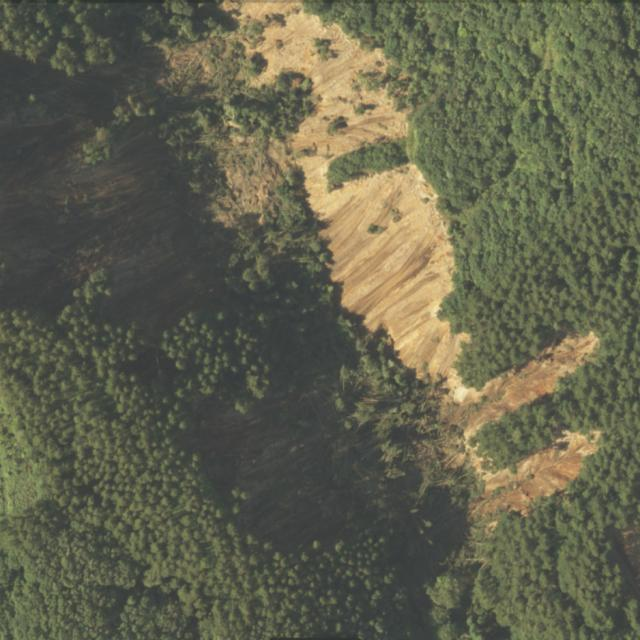landslide: (238, 1, 466, 401), (465, 332, 600, 440), (473, 432, 598, 518)
